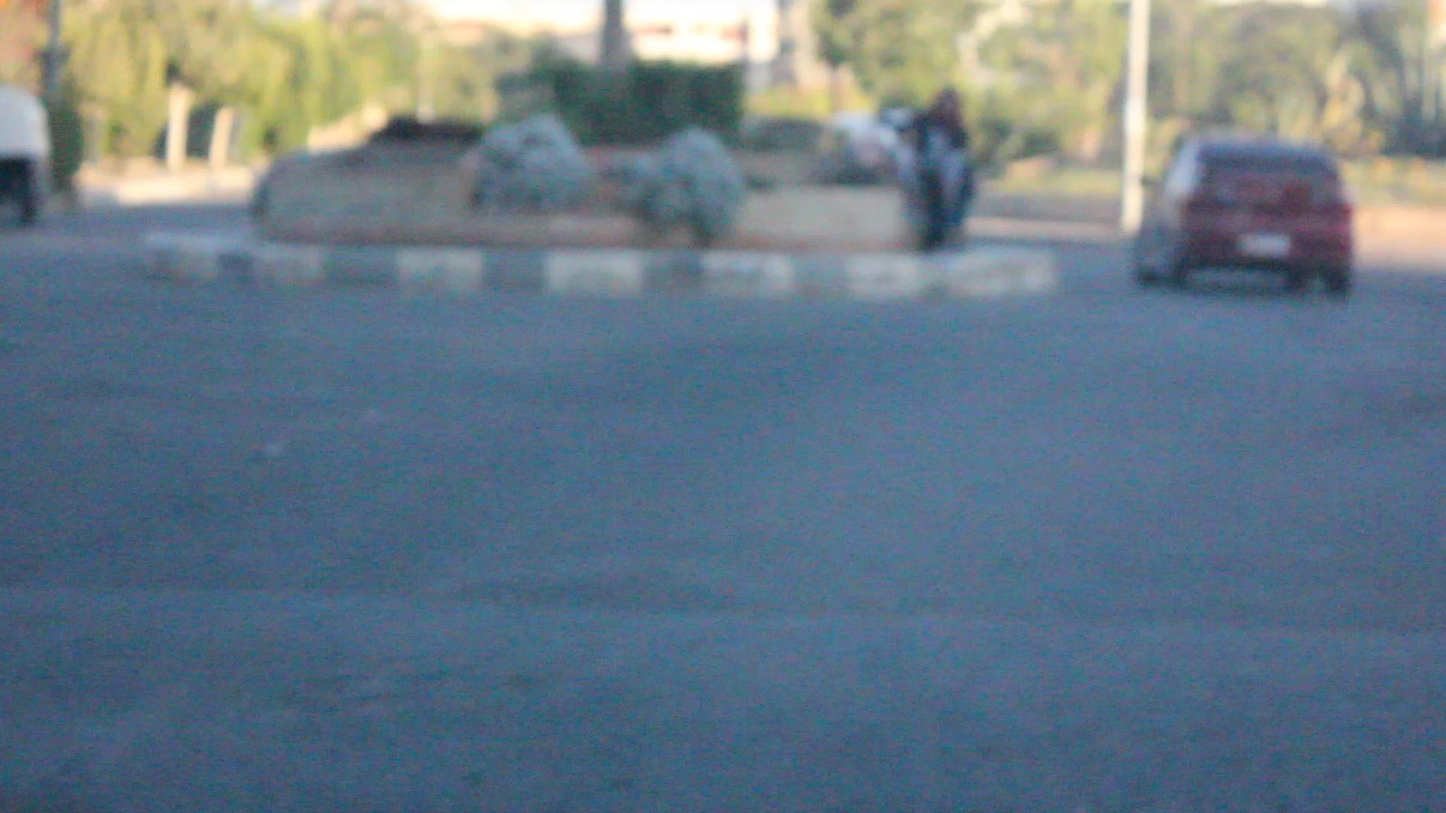Bump: (0, 589, 1446, 813)
